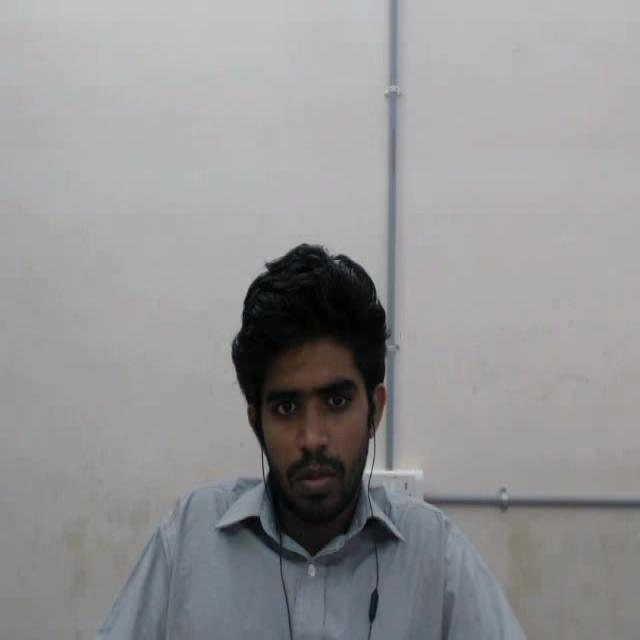Engaged: (204, 194, 441, 581)
